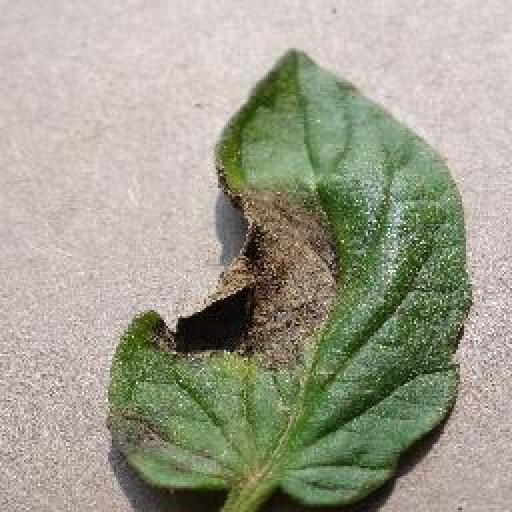disease_tomato: (106, 42, 472, 512)
